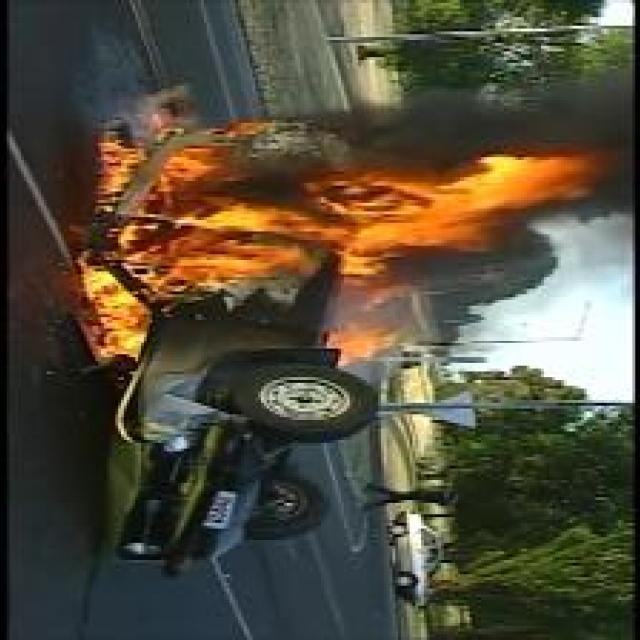Fire: (77, 115, 600, 362), (324, 332, 396, 368)
